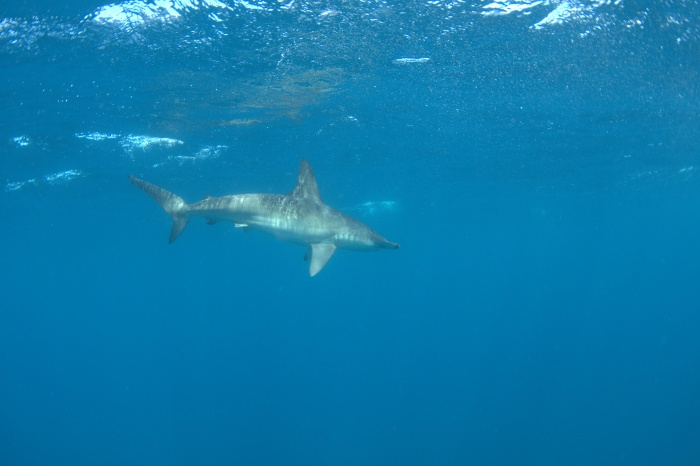Hammer: (121, 143, 425, 311)
